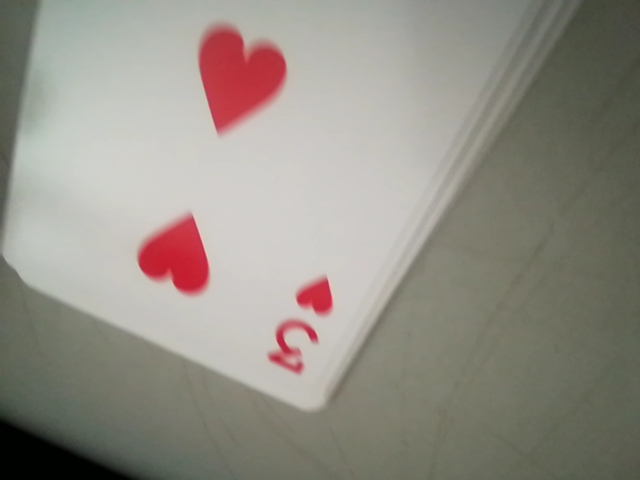hx 3: (259, 267, 343, 387)
